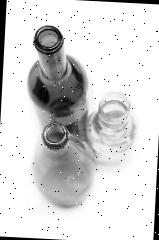glass: (19, 22, 142, 216)
